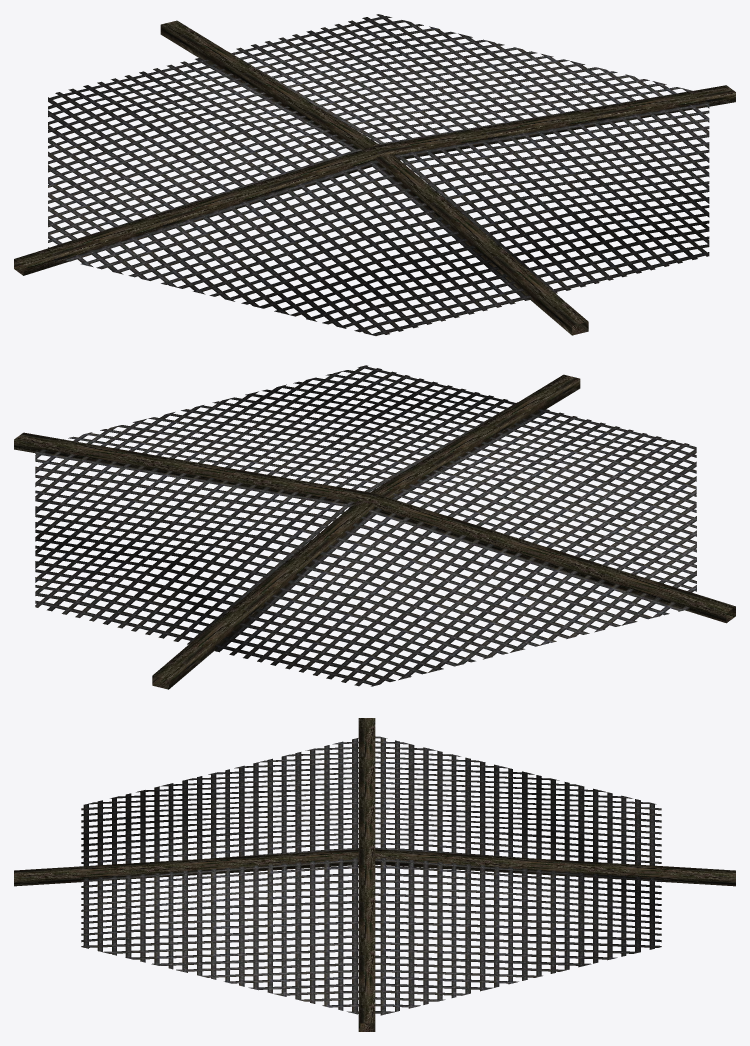
Rendered from OW_ARENA_FENCE.glb.
The picture shows the model from 3 angles, top to bottom: view 1: azimuth 30°, elevation 25°; view 2: azimuth 150°, elevation 25°; view 3: azimuth 270°, elevation 25°; orthographic projection. The views are drawn at different scales.
Parts seen in each view (by area): view 1: Mesh; view 2: Mesh; view 3: Mesh.
Boxes of the visible parts, x1=… form: Mesh: x1=14, y1=14, x2=735, y2=335; Mesh: x1=14, y1=365, x2=735, y2=689; Mesh: x1=14, y1=718, x2=735, y2=1031.
Size of the model in its own units: 19.44 by 0.9589 by 19.44.
Materials: 2 (2 with a texture image).
